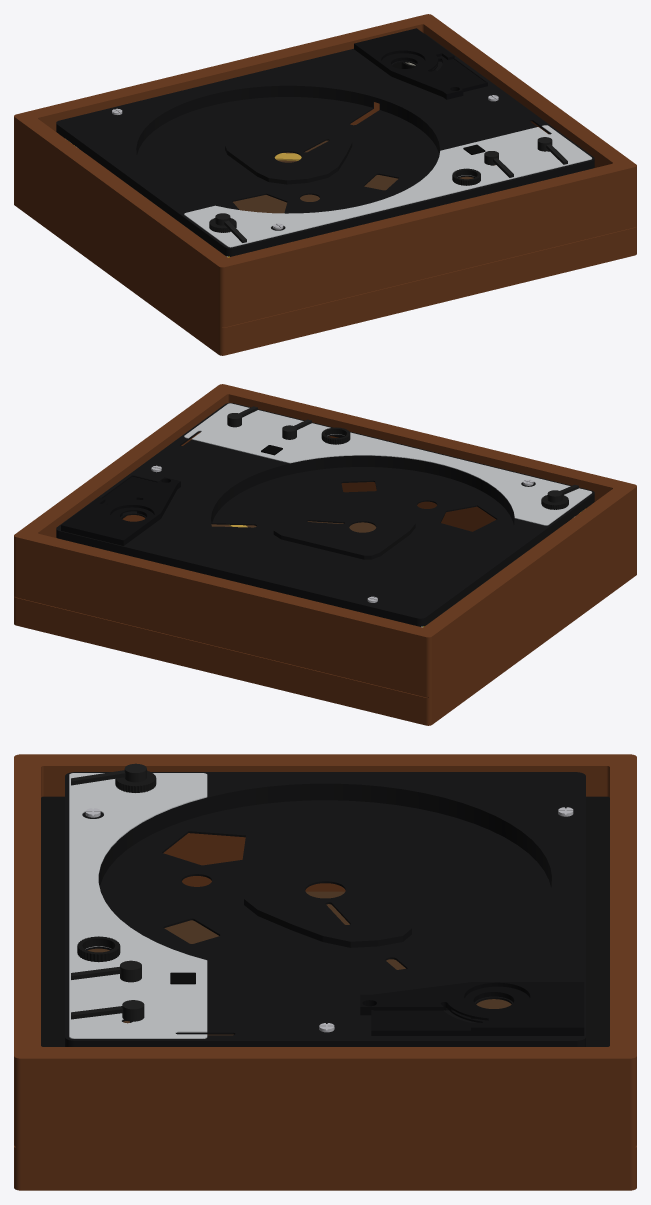
Rendered from structure.glb.
The picture shows the model from 3 angles, top to bottom: view 1: azimuth 30°, elevation 25°; view 2: azimuth 150°, elevation 25°; view 3: azimuth 270°, elevation 25°; orthographic projection. The views are drawn at different scales.
Visible parts, largest first — view 1: SPL_walls, S10_plate, S20_strip, S68_arm_cover, SPL_floor; view 2: SPL_walls, S10_plate, S20_strip, S68_arm_cover; view 3: SPL_walls, S10_plate, S20_strip, SPL_board, S68_arm_cover, SPL_floor, S49_size_lever, S46_strobe_ring, S48_start_stop_lever, S06_speed_lever.
Part boxes in pixels (x1,y1,x2,y2): SPL_walls: (14, 14, 636, 355); S10_plate: (56, 33, 594, 256); S20_strip: (184, 125, 592, 247); S68_arm_cover: (354, 28, 487, 99); SPL_floor: (125, 124, 495, 256); SPL_walls: (14, 384, 636, 725); S10_plate: (56, 403, 594, 626); S20_strip: (184, 403, 592, 525); S68_arm_cover: (61, 475, 180, 545); SPL_walls: (14, 754, 636, 1190); S10_plate: (65, 772, 585, 1046); S20_strip: (69, 773, 207, 1038); SPL_board: (41, 796, 609, 1046); S68_arm_cover: (360, 982, 584, 1035); SPL_floor: (87, 891, 511, 1035); S49_size_lever: (71, 1000, 144, 1022); S46_strobe_ring: (77, 936, 120, 962); S48_start_stop_lever: (71, 960, 141, 982); S06_speed_lever: (71, 763, 146, 785).
Bounding box in the file's own units: 0.4255 × 0.1032 × 0.3683.
